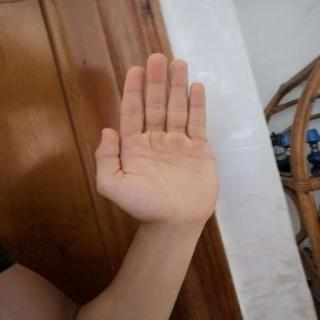SEEN: (85, 45, 233, 233)
